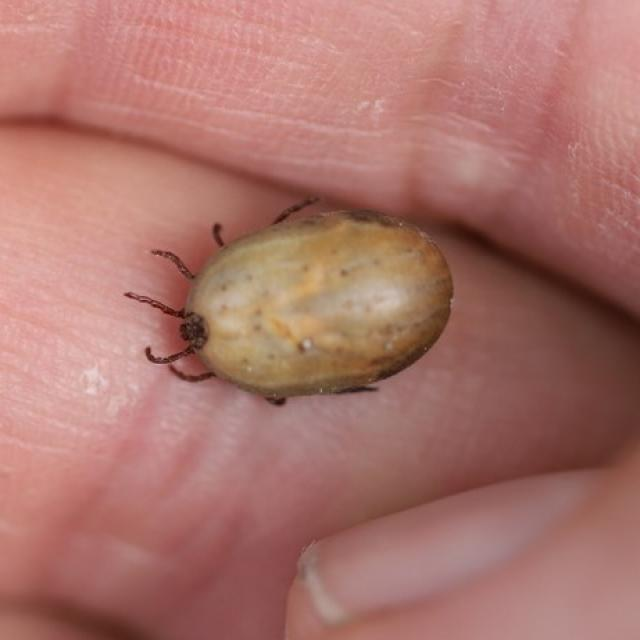Dermacentor Reticulatus-F-Fed: (122, 196, 453, 407)
